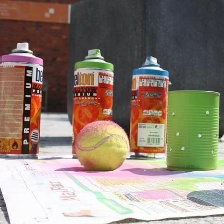aerosol_cans: (0, 40, 46, 161), (68, 45, 116, 159), (124, 51, 172, 162)
can: (160, 86, 224, 172)
